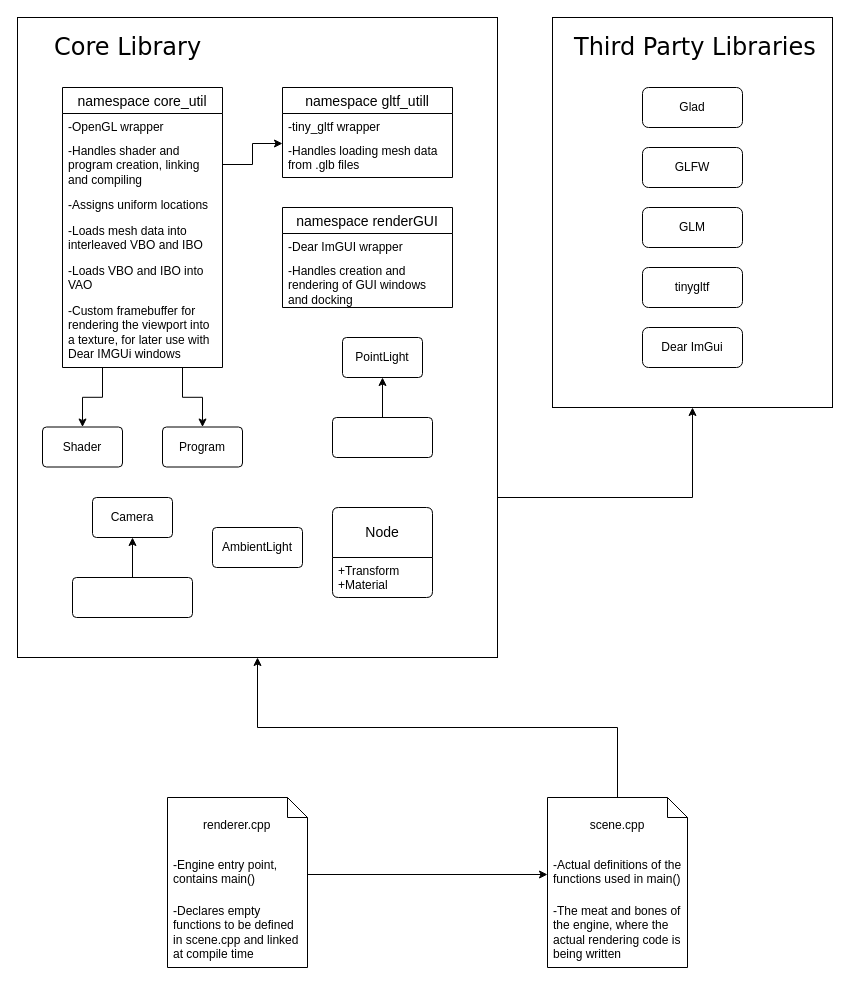
The diagram is 860 pixels wide and 988 high, and some of its shapes have lost their labels. Each missing label, with the centre of its shape:
CameraController: the point at 132,597
LightController: the point at 382,437
